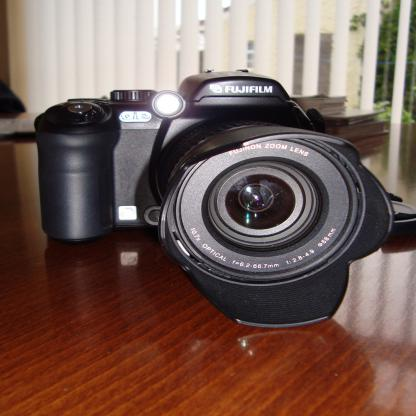Camera: (33, 70, 395, 330)
